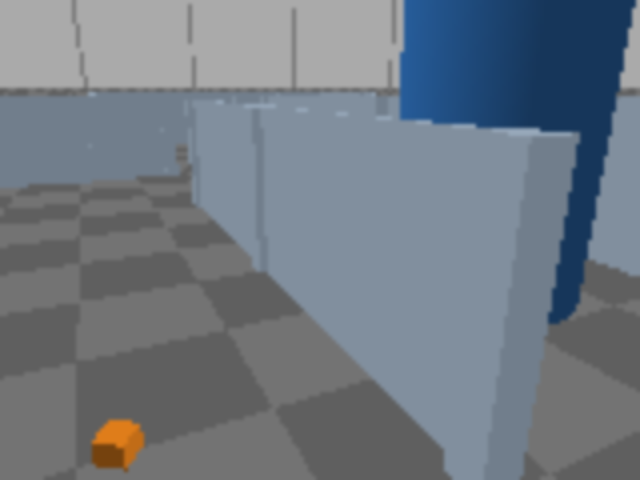person: (407, 0, 638, 323)
puck: (90, 419, 144, 470)
